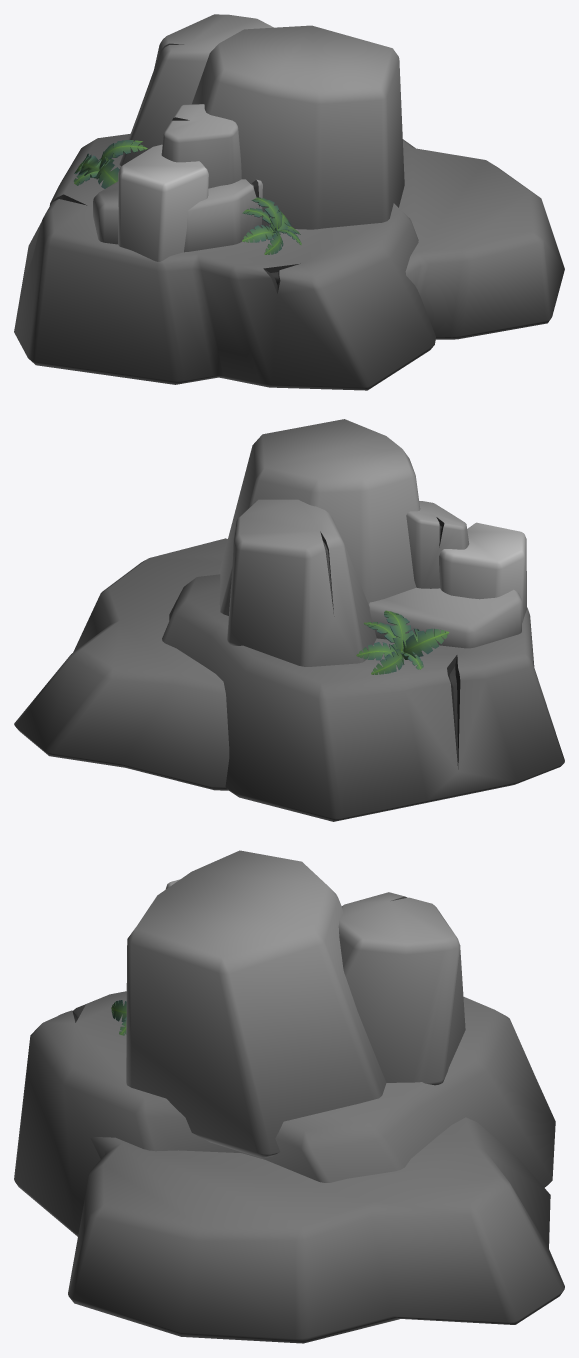
The model's file is Rock_Cluster_01.fbx.
The picture shows the model from 3 angles, top to bottom: view 1: azimuth 30°, elevation 25°; view 2: azimuth 150°, elevation 25°; view 3: azimuth 270°, elevation 25°; orthographic projection. The views are drawn at different scales.
Visible parts, largest first — view 1: Rock_Cluster_01; view 2: Rock_Cluster_01; view 3: Rock_Cluster_01.
Part boxes in pixels (x1,y1,x2,y2): Rock_Cluster_01: (14, 14, 564, 390); Rock_Cluster_01: (14, 419, 564, 821); Rock_Cluster_01: (14, 850, 564, 1343).
Bounding box in the file's own units: 1604 × 804 × 1297.
